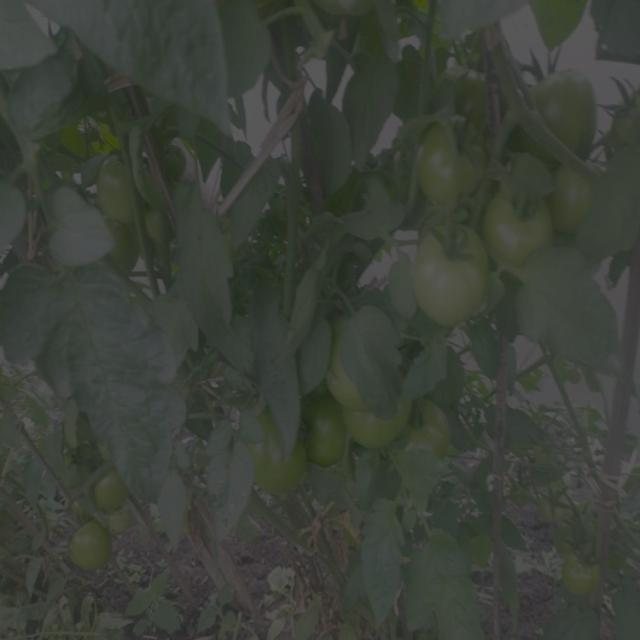tomato: (409, 220, 494, 328), (421, 114, 485, 204), (488, 193, 559, 273), (544, 65, 609, 147), (64, 517, 124, 585), (250, 429, 304, 499), (298, 391, 344, 470), (92, 157, 142, 222), (339, 408, 406, 455), (407, 403, 451, 454), (87, 471, 132, 515), (550, 159, 586, 213)
